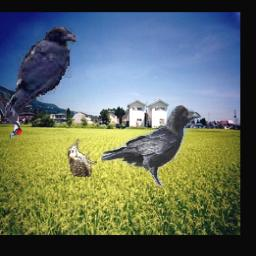Crow: (100, 104, 201, 188), (3, 27, 75, 118)
Woodpecker: (0, 84, 24, 138), (68, 138, 97, 177)
